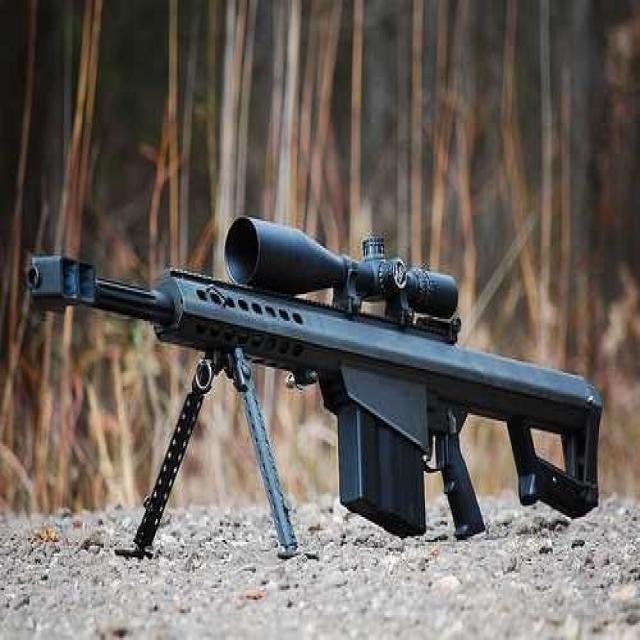heavyweapon: (14, 207, 605, 553)
